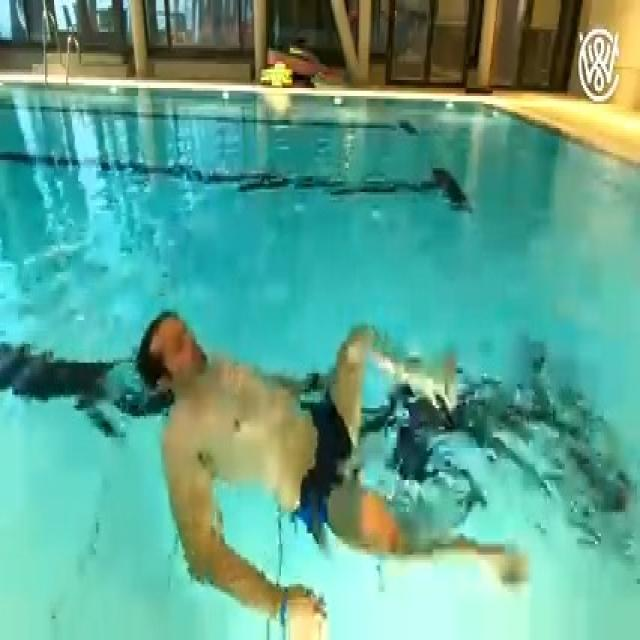Swimming: (133, 312, 534, 634)
